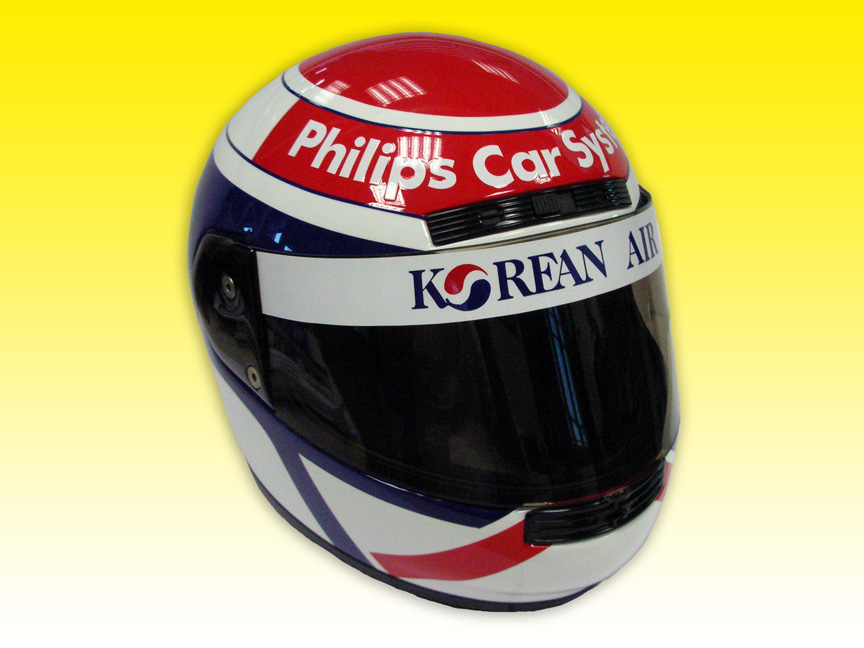helmet: (198, 46, 666, 582)
